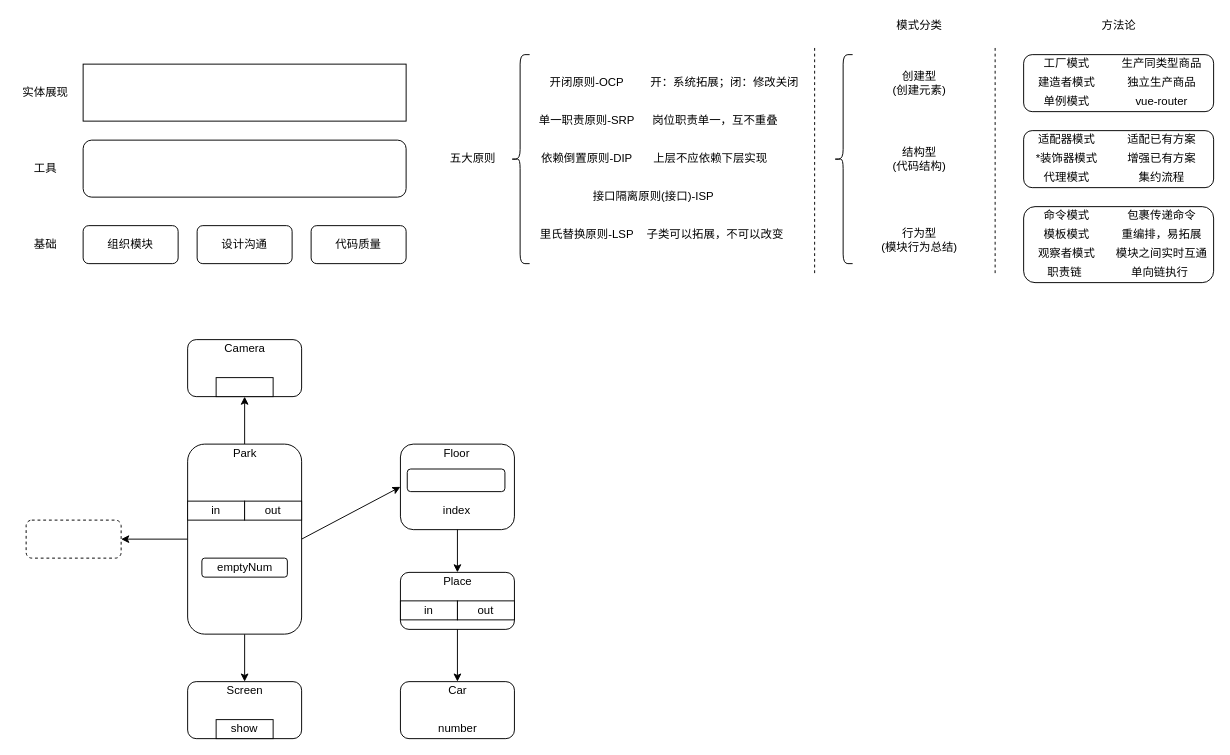
Image size: 1230x755. Some labels were removed from this diagram. The shapes that lost their labels are listed below. From the top down, each one's centre as x and y in pixels, then its label:
[244,92]: 系统本身
[244,168]: 设计模式
[244,387]: shot
[455,480]: emptyPlaceNum
[73,538]: carList
